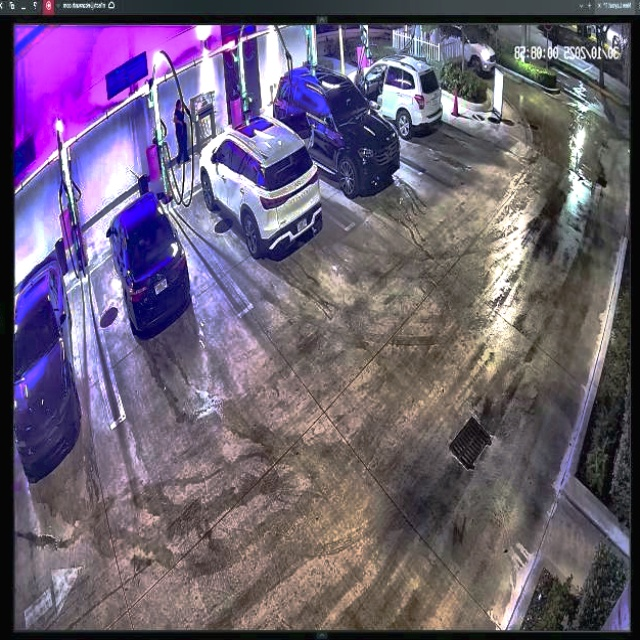Car: (199, 114, 321, 256), (274, 68, 398, 191), (107, 193, 192, 333)
